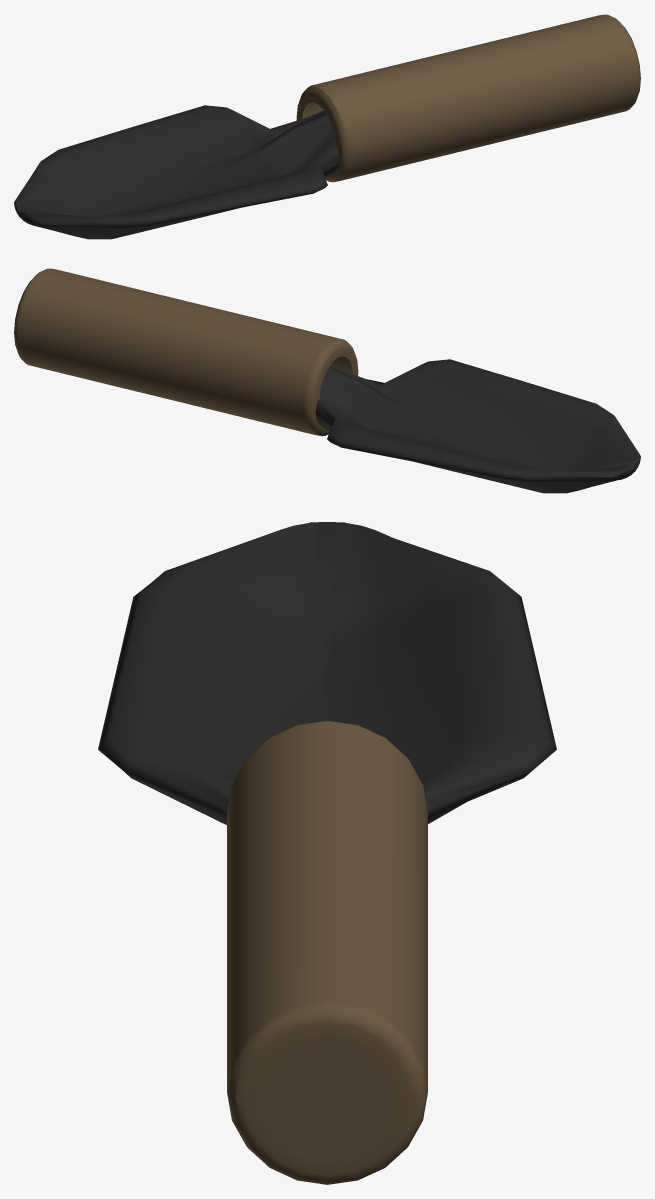
The model's file is FBX_MiniPelle.fbx.
3 renders of one model, top to bottom at view 1: azimuth 30°, elevation 25°; view 2: azimuth 150°, elevation 25°; view 3: azimuth 270°, elevation 25°, orthographic. The views are drawn at different scales.
Visible parts, largest first — view 1: miniPelle; view 2: miniPelle; view 3: miniPelle.
Part boxes in pixels (x1,y1,x2,y2): miniPelle: (14,14,640,239); miniPelle: (14,268,640,493); miniPelle: (98,522,556,1184).
Size of the model in its own units: 13.78 by 2.03 by 4.57.
